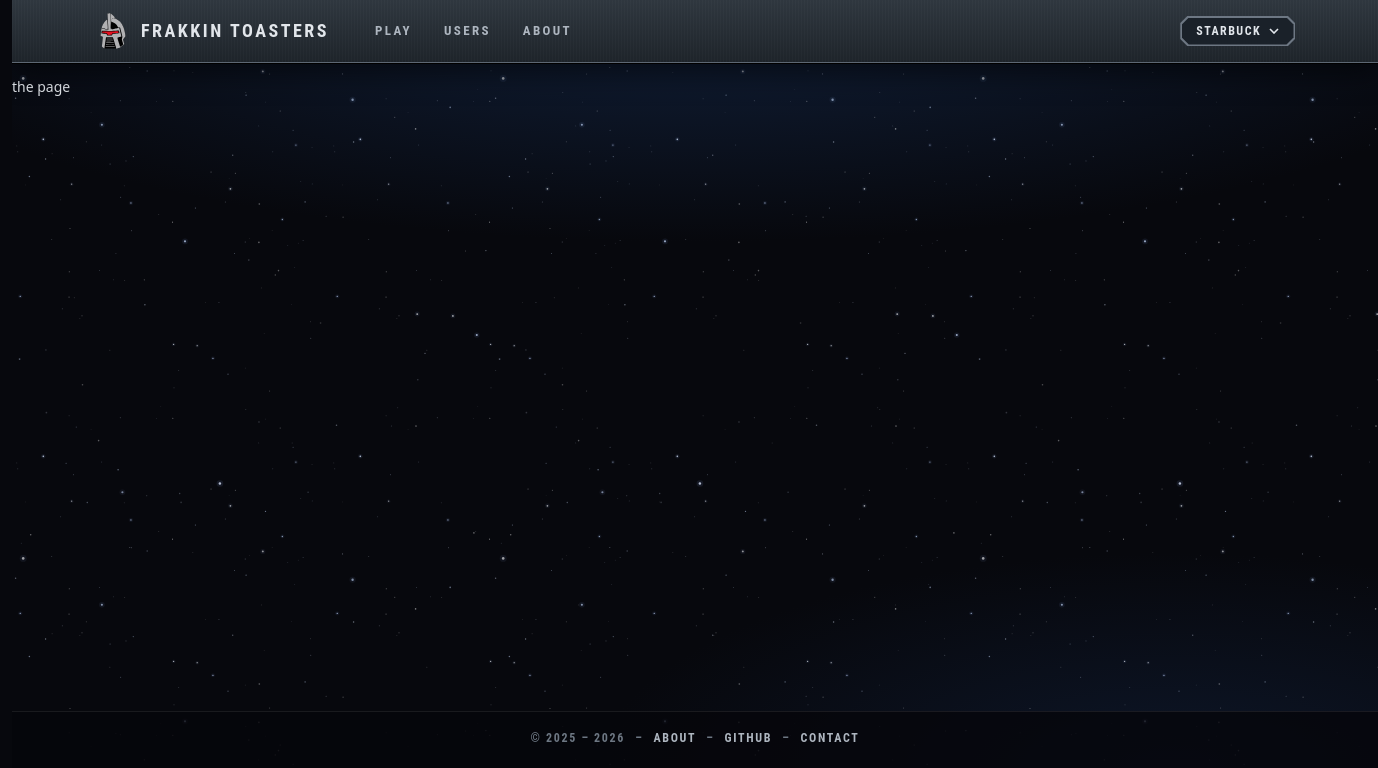
SiteFrame › opens the user's menu: the profile, another user in this tab and the logout
Click the button "Starbuck": point(1238, 31) [1180,16,1295,46]
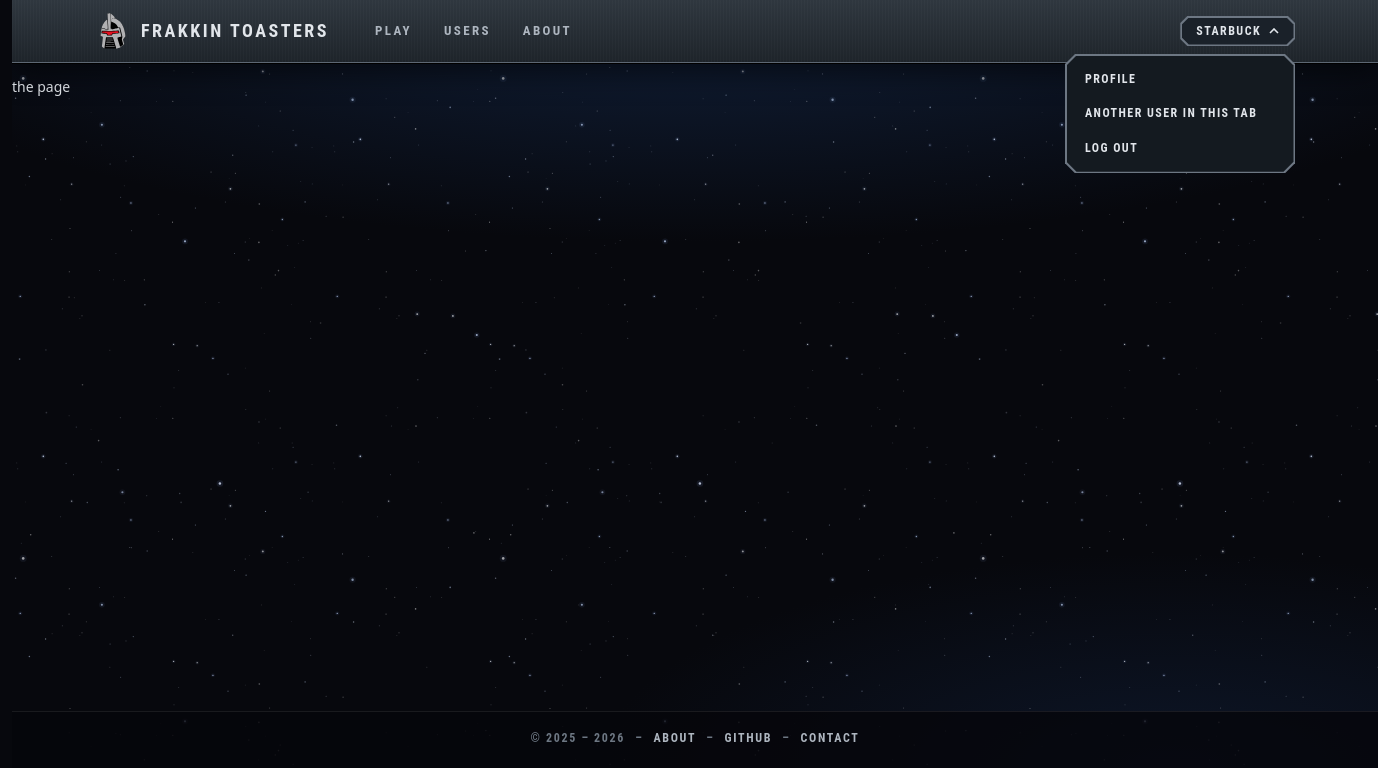
Now the button "Starbuck" is expanded, box [1180,16,1295,46]
Now the button "Another user in this tab" is shown, box [1073,96,1287,131]
Now the button "Log out" is shown, box [1073,131,1287,165]
Press Escape
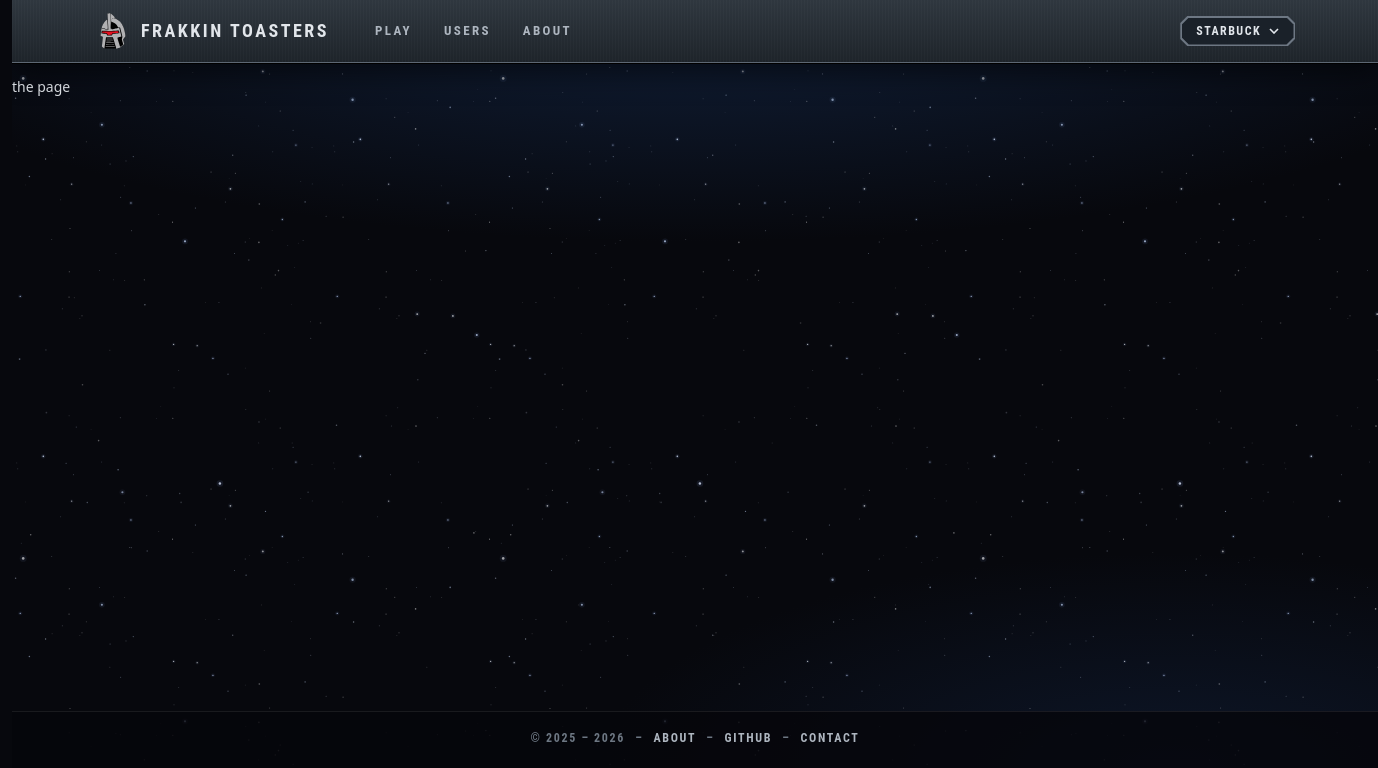
Now the link "Profile" is gone
